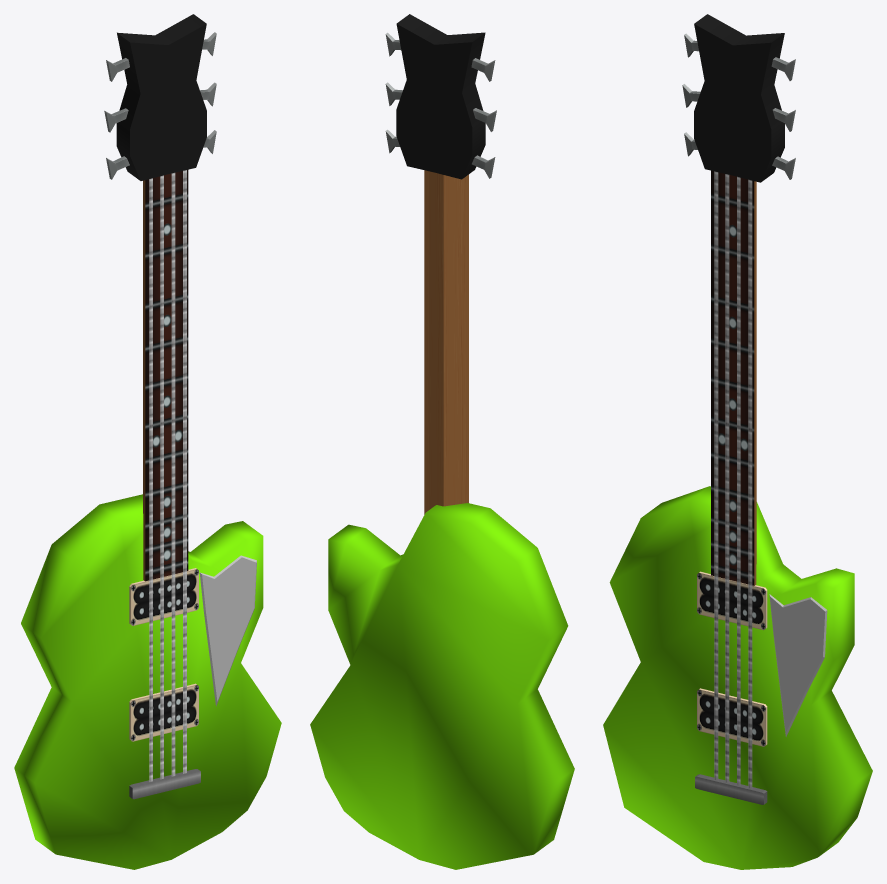
The model's file is Guitar_G.FBX.
The picture shows the model from 3 angles, left to right: view 1: azimuth 30°, elevation 25°; view 2: azimuth 150°, elevation 25°; view 3: azimuth 330°, elevation 25°; orthographic projection.
Visible parts, largest first — view 1: Guitar; view 2: Guitar; view 3: Guitar.
Part boxes in pixels (bbox=[...]): Guitar: bbox=[14, 14, 281, 869]; Guitar: bbox=[310, 14, 574, 869]; Guitar: bbox=[603, 14, 872, 869].
Bounding box in the file's own units: 64.57 × 208 × 10.83.
